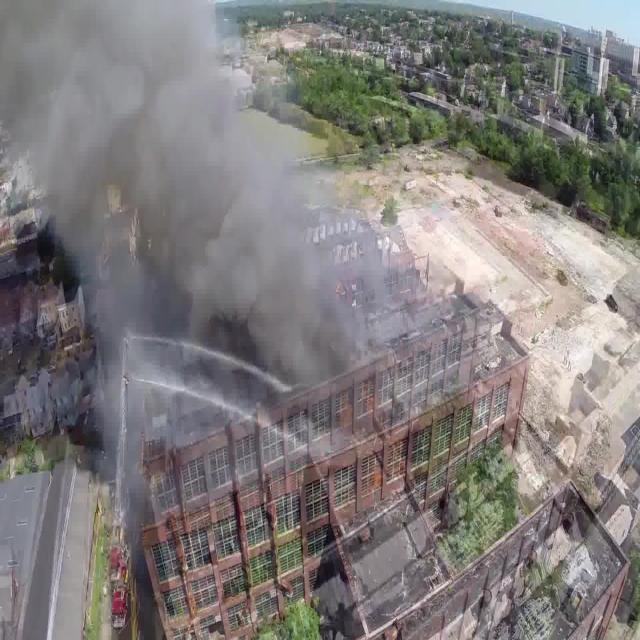smoke: (36, 0, 223, 255), (227, 141, 320, 379)
